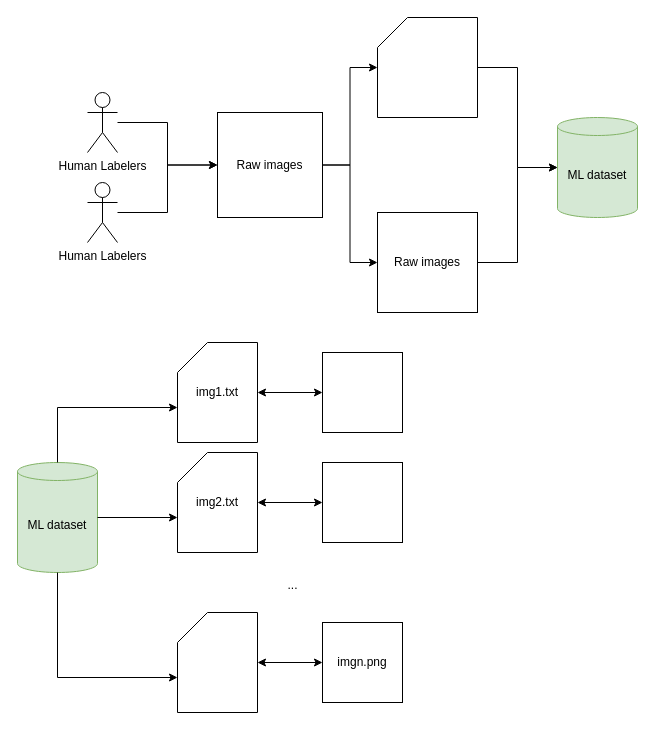
This 655x730 diagram has some shape labels left out. Here are the shapes that lost their labels. From the top down, the centre of each, then its label:
At (x=427, y=67): "Sosnovski coordinates in pixels".
At (x=362, y=392): "img1.png".
At (x=362, y=502): "img2.png".
At (x=217, y=662): "imgn.txt".
